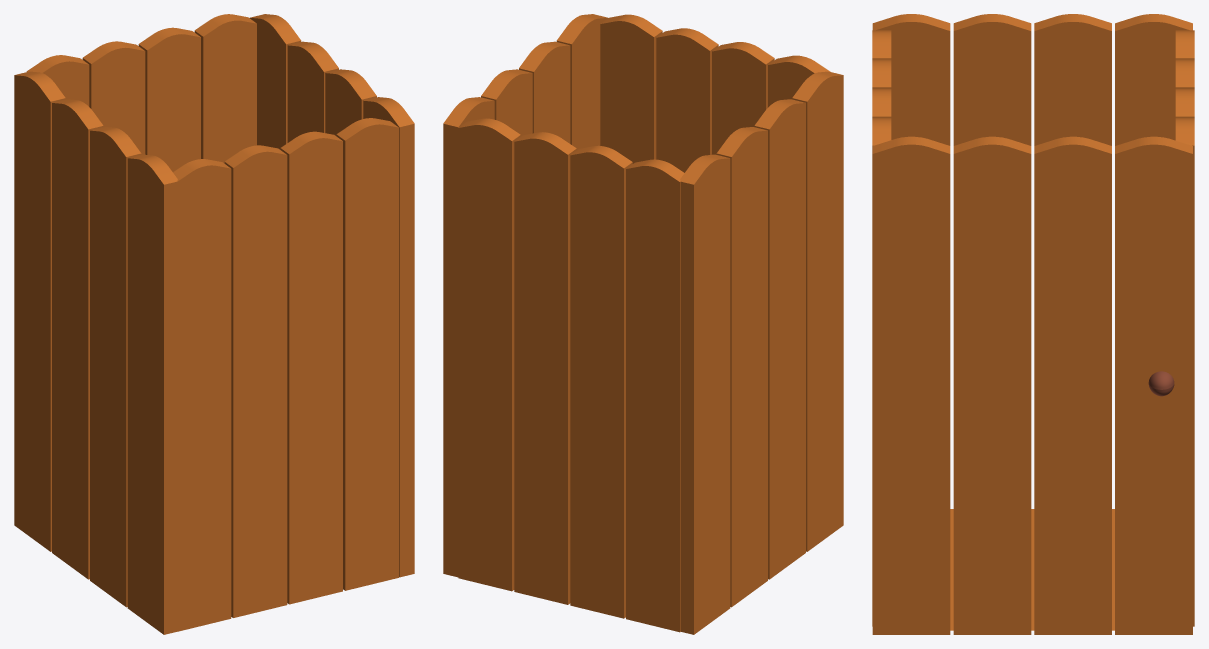
Rendered from kabin.fbx.
The picture shows the model from 3 angles, left to right: view 1: azimuth 30°, elevation 25°; view 2: azimuth 150°, elevation 25°; view 3: azimuth 270°, elevation 25°; orthographic projection. The views are drawn at different scales.
Parts seen in each view (by area): view 1: Cube.016, Cube.004, Cube.017, Cube; view 2: Cube.017, Cube.004, Cube.016, Cube; view 3: Cube, Cube.004, Cube.017, Cube.016, Plane, Cube.015.
Part boxes in pixels (x1=…): Cube.016: x1=173, y1=118, x2=398, y2=631; Cube.004: x1=14, y1=71, x2=177, y2=634; Cube.017: x1=26, y1=14, x2=256, y2=171; Cube: x1=250, y1=14, x2=414, y2=577; Cube.017: x1=458, y1=118, x2=684, y2=632; Cube.004: x1=680, y1=71, x2=843, y2=634; Cube.016: x1=600, y1=14, x2=830, y2=172; Cube: x1=443, y1=14, x2=607, y2=577; Cube: x1=872, y1=136, x2=1192, y2=634; Cube.004: x1=872, y1=14, x2=1192, y2=145; Cube.017: x1=1175, y1=30, x2=1194, y2=626; Cube.016: x1=872, y1=30, x2=891, y2=626; Plane: x1=950, y1=509, x2=1114, y2=630; Cube.015: x1=1148, y1=371, x2=1174, y2=396.
Size of the model in its own units: 82.95 by 139 by 82.13.
